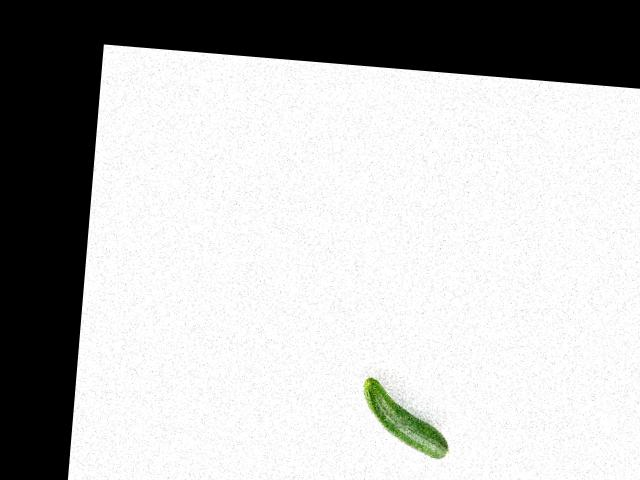cucumber: (358, 376, 454, 459)
